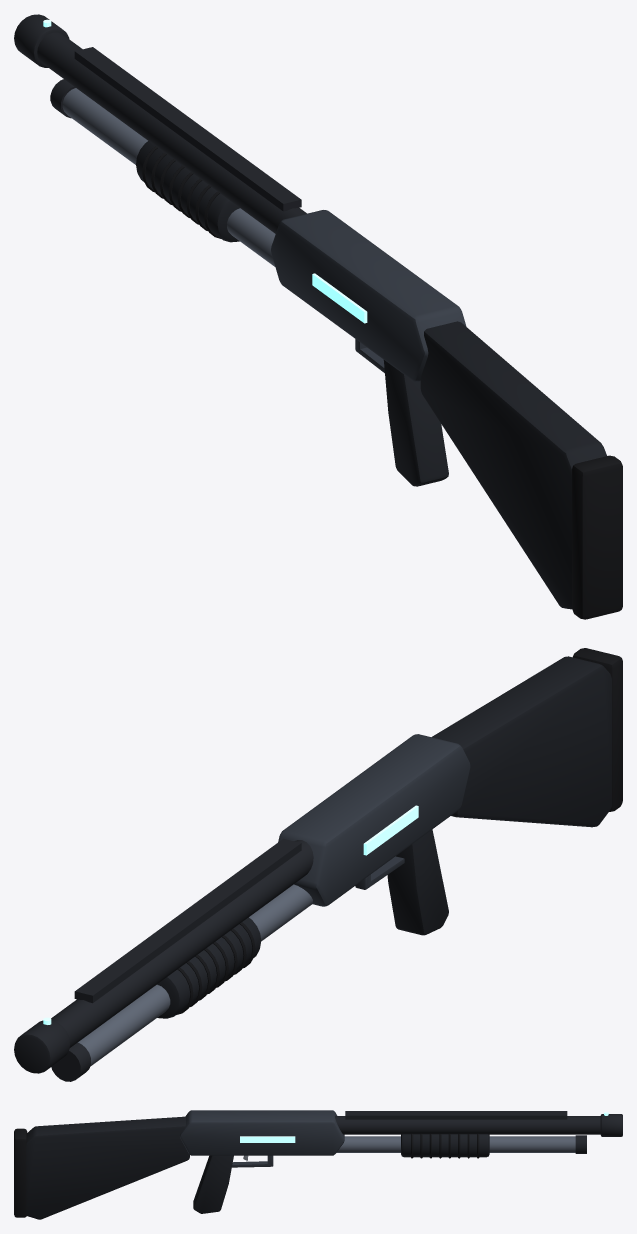
The model's file is arme_pompe.glb.
The picture shows the model from 3 angles, top to bottom: view 1: azimuth 30°, elevation 25°; view 2: azimuth 150°, elevation 25°; view 3: azimuth 270°, elevation 25°; orthographic projection. The views are drawn at different scales.
Parts seen in each view (by area): view 1: Pompe, PompeAvant; view 2: Pompe, PompeAvant; view 3: Pompe, PompeAvant.
Part boxes in pixels (bbox=[...]): Pompe: bbox=[14, 14, 622, 619]; PompeAvant: bbox=[136, 141, 239, 242]; Pompe: bbox=[14, 648, 622, 1081]; PompeAvant: bbox=[157, 917, 261, 1018]; Pompe: bbox=[14, 1110, 622, 1219]; PompeAvant: bbox=[401, 1134, 489, 1158].
Size of the model in its own units: 0.06 by 0.2039 by 1.1.
